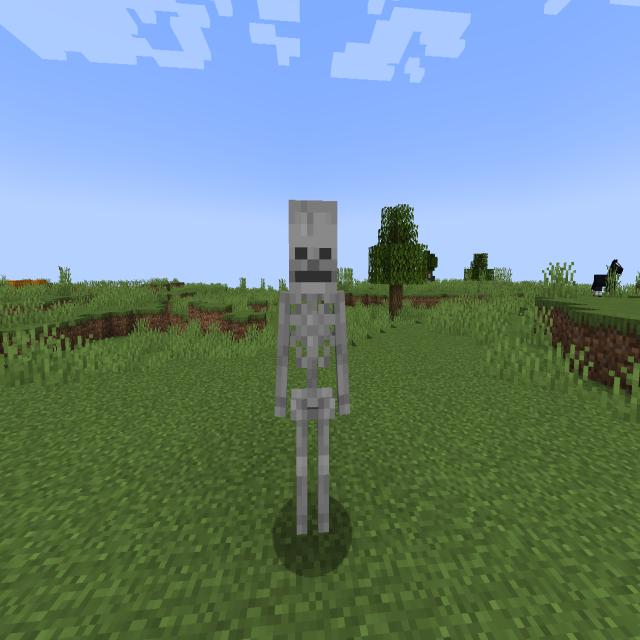Skeleton: (262, 185, 374, 566)
